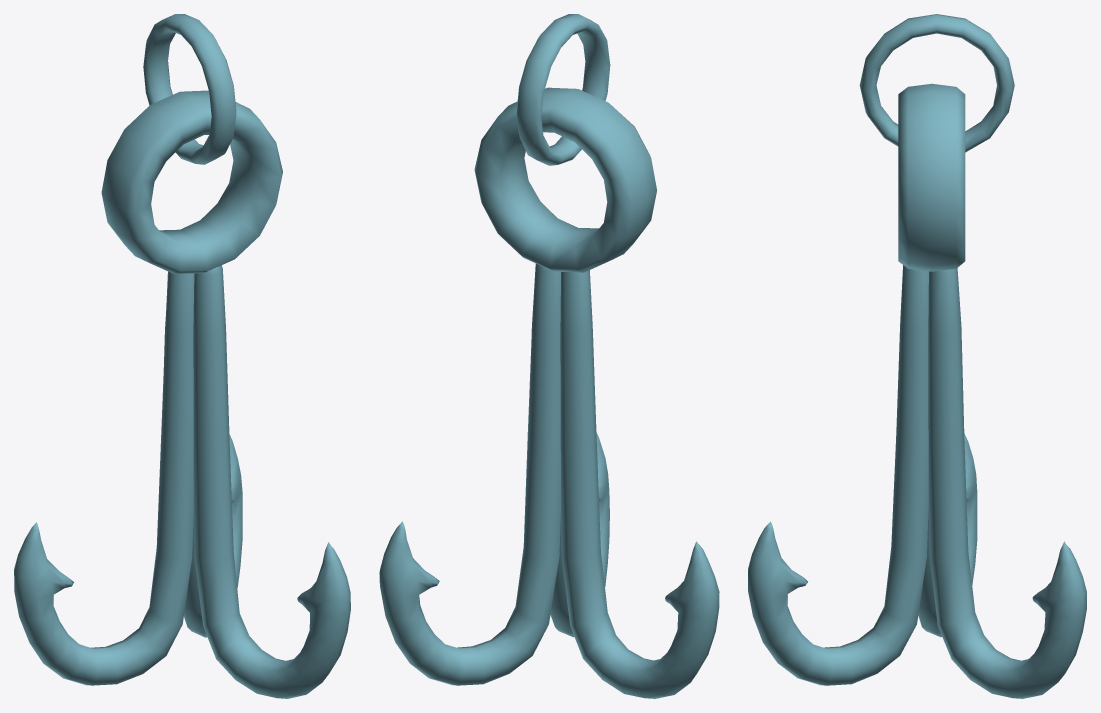
File: Hook_001.fbx
The picture shows the model from 3 angles, left to right: view 1: azimuth 30°, elevation 25°; view 2: azimuth 150°, elevation 25°; view 3: azimuth 270°, elevation 25°; orthographic projection.
Parts seen in each view (by area): view 1: polySurface15; view 2: polySurface15; view 3: polySurface15.
Boxes of the visible parts, x1,y1,x2,y2 form: polySurface15: [14, 14, 350, 698]; polySurface15: [379, 14, 719, 698]; polySurface15: [748, 14, 1086, 698].
Size of the model in its own units: 3.28 by 7.28 by 3.43.
